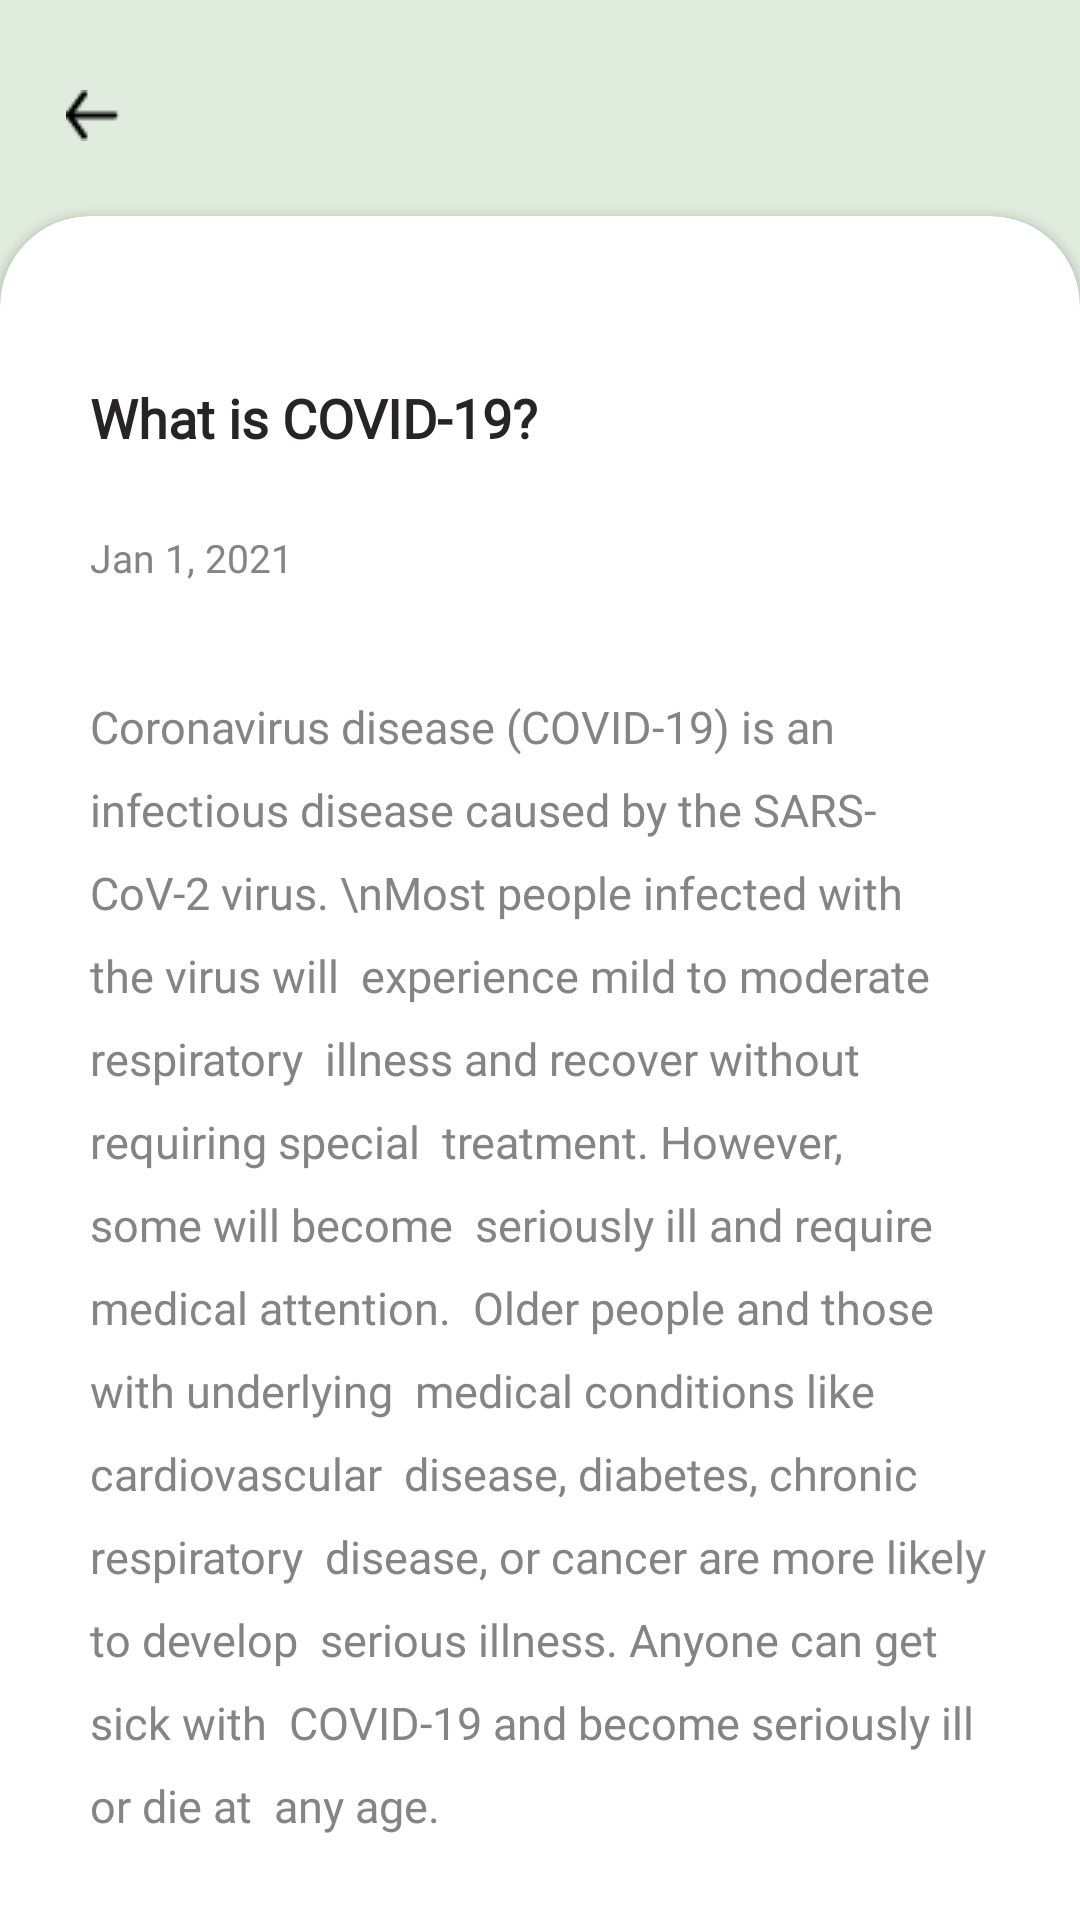

Screen size 1080w x 1920h. Icon name, then its box in pixels as (x1, y1, x2, y2):
back: (66, 90, 118, 141)
